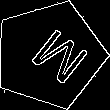M_SW: (15, 21, 84, 89)
